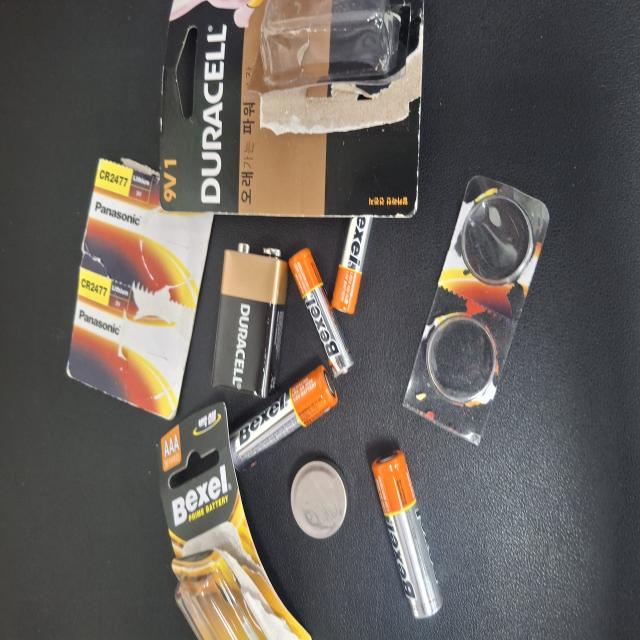9V: (182, 282, 298, 386)
AA: (16, 495, 142, 590), (130, 307, 206, 450)
AAA: (197, 386, 293, 471), (244, 442, 318, 497)
COIN: (76, 388, 135, 463)
